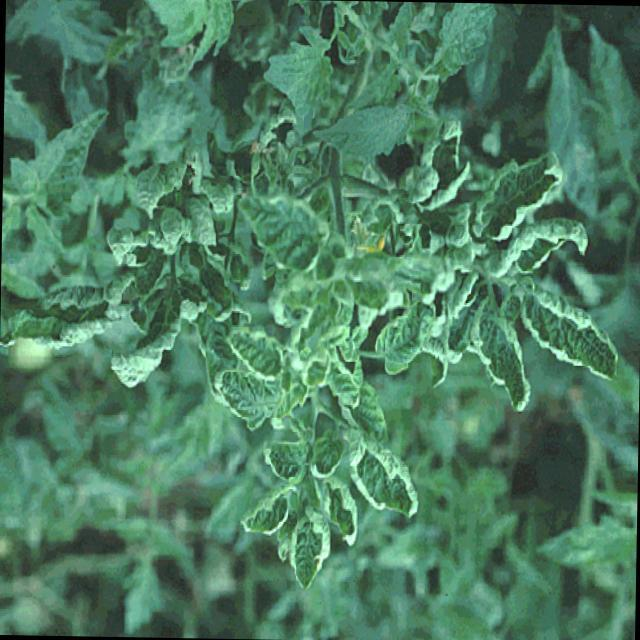Yellow Curl Virus: (523, 284, 623, 388), (480, 148, 566, 242), (472, 292, 532, 418), (352, 435, 422, 517), (368, 306, 438, 372), (222, 324, 288, 378), (286, 507, 332, 584), (322, 478, 364, 550), (236, 491, 288, 538), (258, 438, 302, 481), (307, 431, 343, 482)
